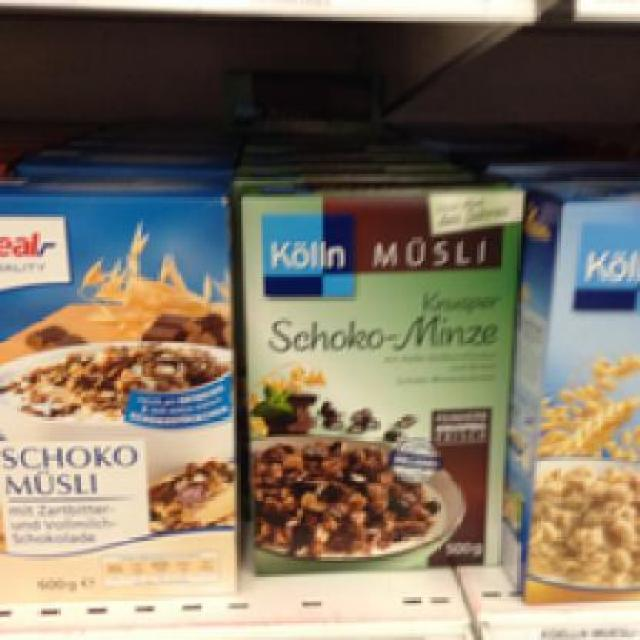Cereal: (230, 175, 526, 574), (0, 174, 235, 603)
